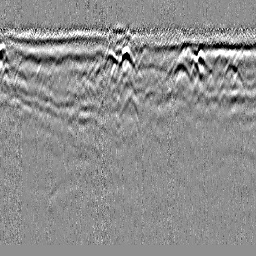cavity: (117, 43, 137, 69)
